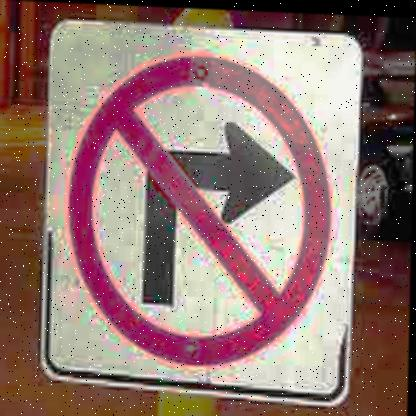No right turn: (65, 42, 337, 379)
